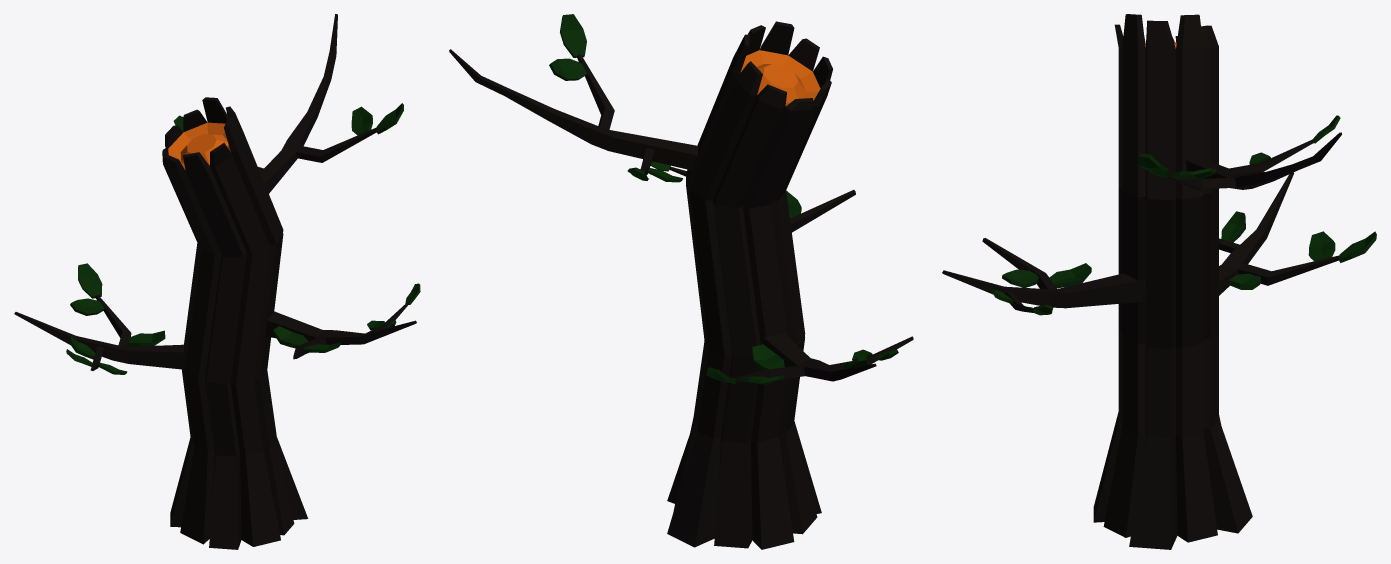
Rendered from Broken_Tree_Spring.obj.
3 views of the same model, side by side, from view 1: azimuth 30°, elevation 25°; view 2: azimuth 150°, elevation 25°; view 3: azimuth 270°, elevation 25° (orthographic). The views are drawn at different scales.
Visible parts, largest first — view 1: Broken_Tree_Spring_Cylinder.033; view 2: Broken_Tree_Spring_Cylinder.033; view 3: Broken_Tree_Spring_Cylinder.033.
Boxes of the visible parts, bbox=[...] form: Broken_Tree_Spring_Cylinder.033: bbox=[14, 14, 420, 549]; Broken_Tree_Spring_Cylinder.033: bbox=[449, 14, 913, 549]; Broken_Tree_Spring_Cylinder.033: bbox=[942, 14, 1376, 549].
Size of the model in its own units: 2.92 by 3.41 by 2.73.
